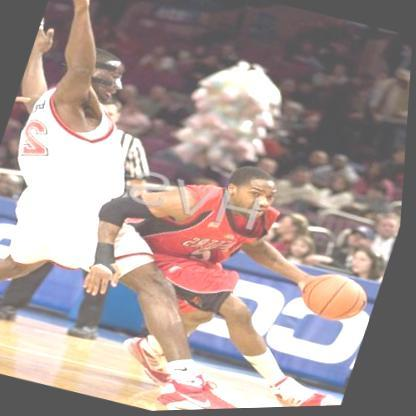basketball: (298, 268, 375, 330)
